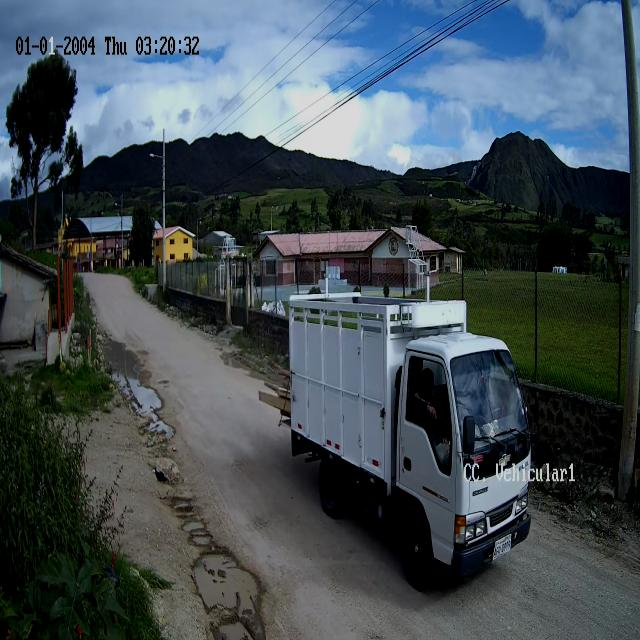TRUCK: (284, 294, 532, 594)
